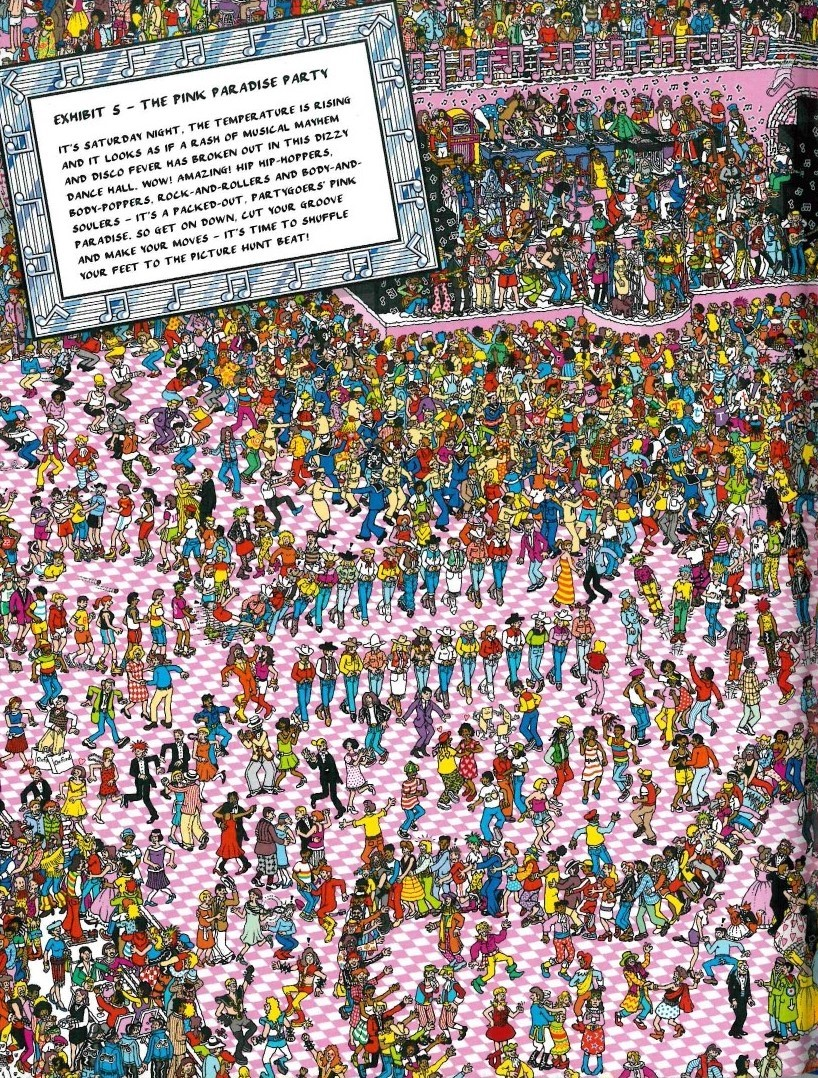waldos: (7, 817, 35, 853)
